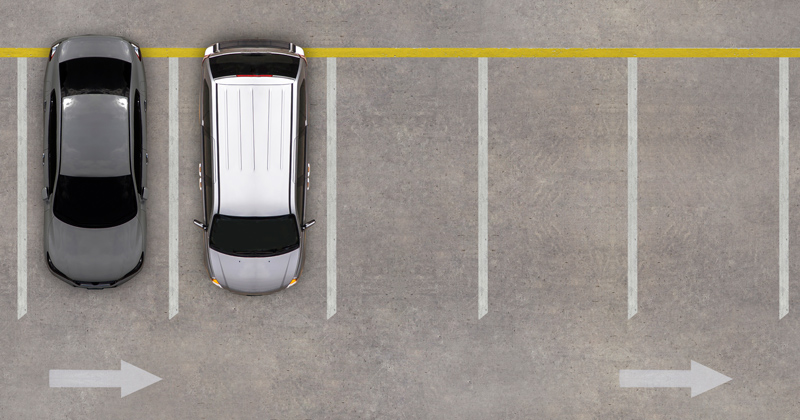car: (35, 35, 161, 289), (198, 37, 316, 300)
